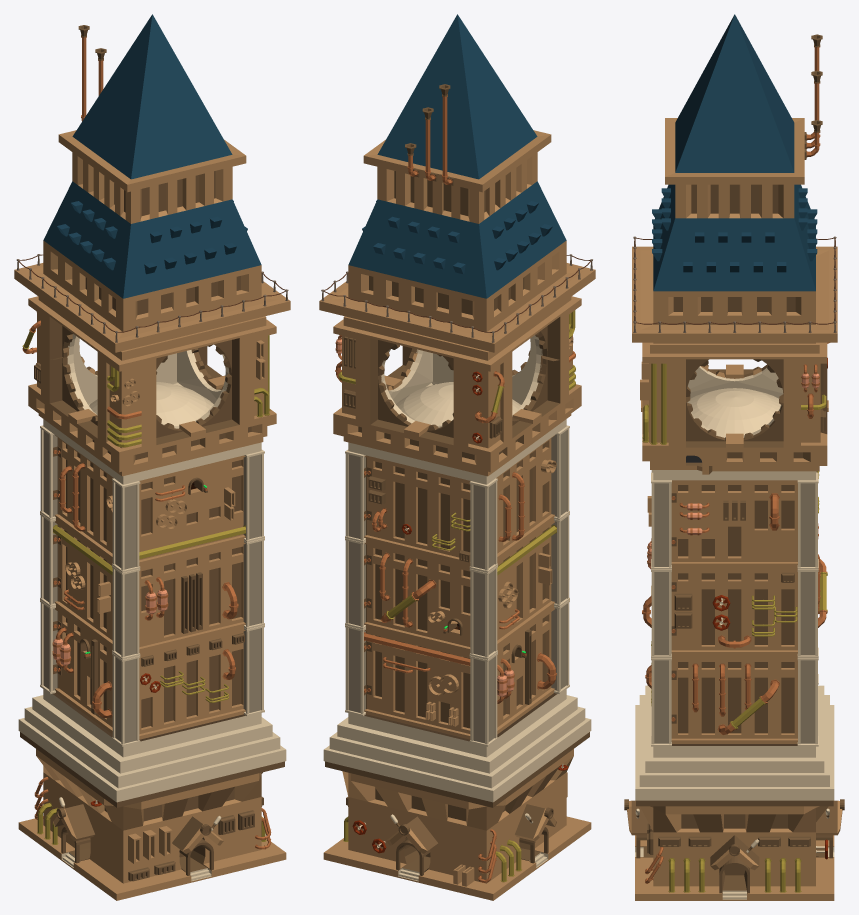
The model's file is MainTower_and_Walls.fbx.
3 views of the same model, side by side, from view 1: azimuth 30°, elevation 25°; view 2: azimuth 150°, elevation 25°; view 3: azimuth 270°, elevation 25° (orthographic).
Visible parts, largest first — view 1: MainTower, F1S_Wall, F2S_Wall, F3S_Wall, F1W_Wall, F2W_Wall, F3W_Wall; view 2: MainTower, F1N_Wall, F2N_Wall, F3N_Wall, F1W_Wall, F2W_Wall, F3W_Wall; view 3: MainTower, F1E_Wall, F2E_Wall, F3E_Wall, F2N_Wall.
Part boxes in pixels (x1,y1,x2,y2): MainTower: (14, 14, 290, 900); F1S_Wall: (139, 627, 245, 739); F2S_Wall: (139, 540, 245, 652); F3S_Wall: (139, 455, 245, 565); F1W_Wall: (52, 606, 112, 734); F2W_Wall: (53, 519, 112, 647); F3W_Wall: (53, 435, 113, 560); MainTower: (319, 14, 595, 900); F1N_Wall: (364, 627, 470, 739); F2N_Wall: (364, 540, 470, 652); F3N_Wall: (364, 455, 470, 565); F1W_Wall: (497, 606, 556, 734); F2W_Wall: (497, 519, 556, 647); F3W_Wall: (496, 435, 556, 560); MainTower: (624, 14, 844, 900); F1E_Wall: (671, 655, 797, 743); F2E_Wall: (671, 567, 797, 655); F3E_Wall: (671, 480, 797, 567); F2N_Wall: (818, 554, 827, 627).
Size of the model in its own units: 135 by 573 by 135.
